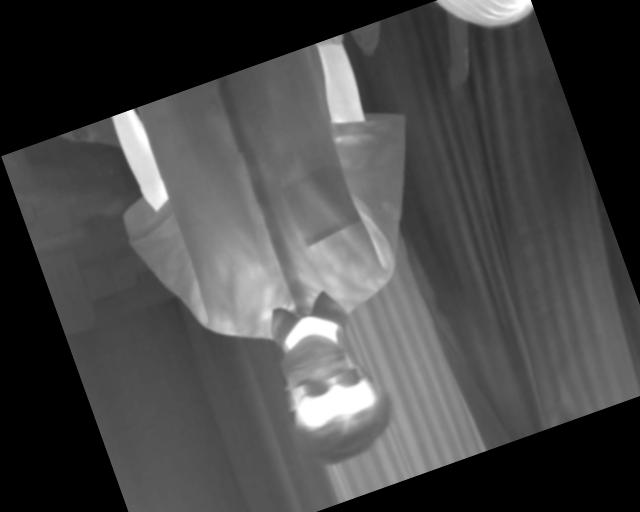face: (52, 236, 262, 480), (485, 279, 608, 426)
